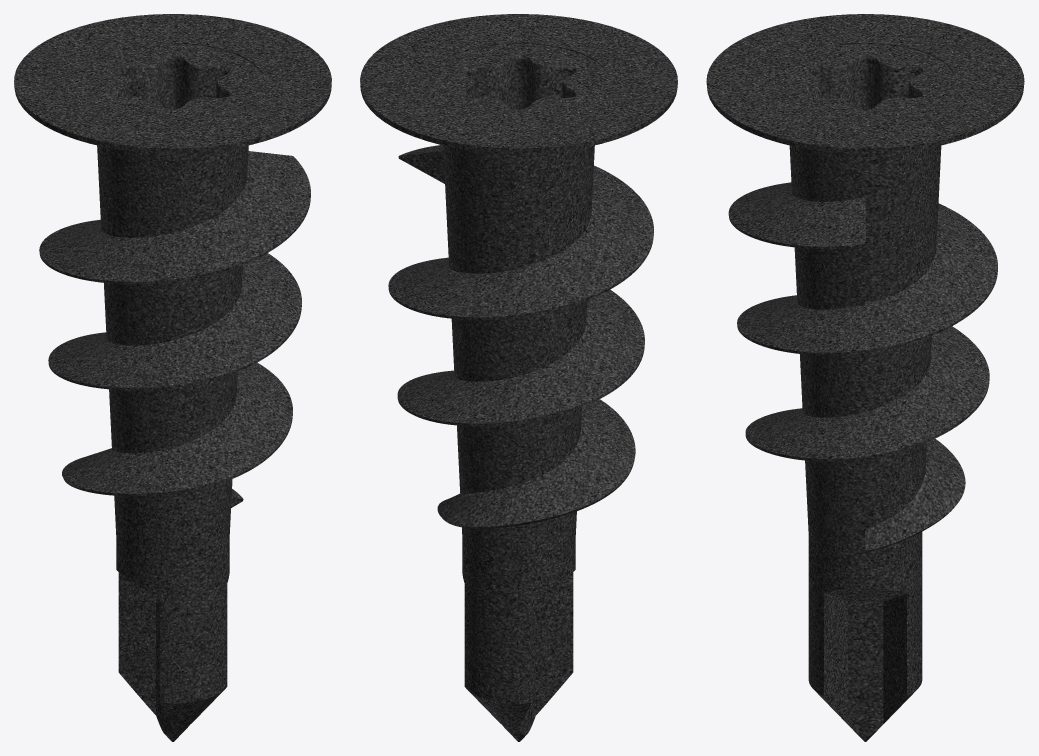
The model's file is dpnwhite.glb.
The picture shows the model from 3 angles, left to right: view 1: azimuth 30°, elevation 25°; view 2: azimuth 150°, elevation 25°; view 3: azimuth 270°, elevation 25°; orthographic projection.
Visible parts, largest first — view 1: A_MAIN_BODY; view 2: A_MAIN_BODY; view 3: A_MAIN_BODY.
Boxes of the visible parts, x1,y1,x2,y2 form: A_MAIN_BODY: (14,14,331,741); A_MAIN_BODY: (360,14,677,741); A_MAIN_BODY: (706,14,1024,741).
Size of the model in its own units: 0.014 by 0.0321 by 0.014.
1 material, 1 textured.
